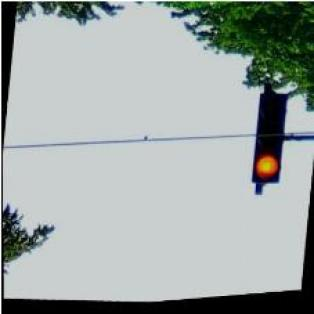Semaforo Rojo: (252, 95, 289, 191)
